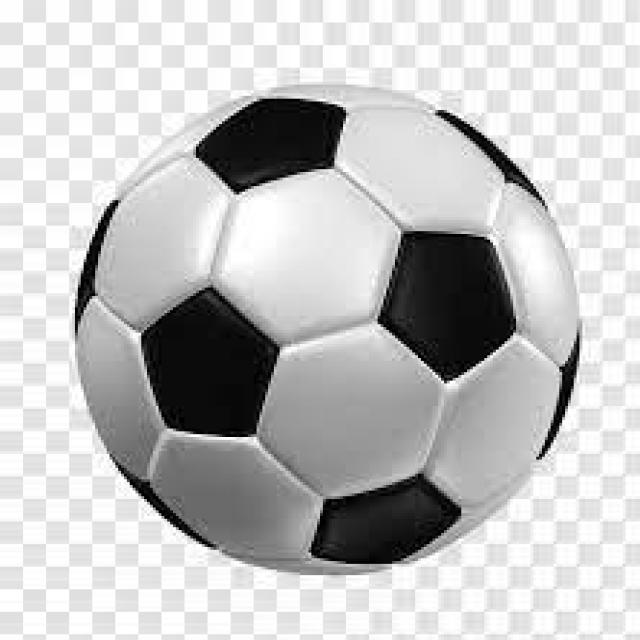Soccer Ball: (75, 79, 579, 578)
